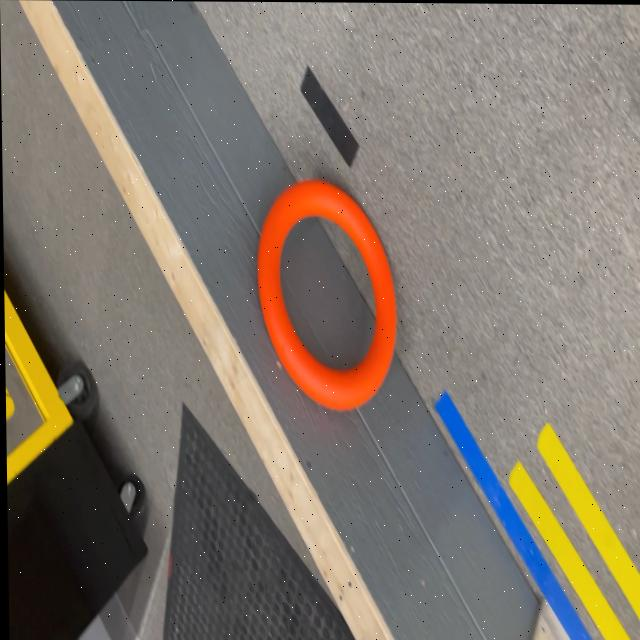note: (254, 178, 394, 410)
